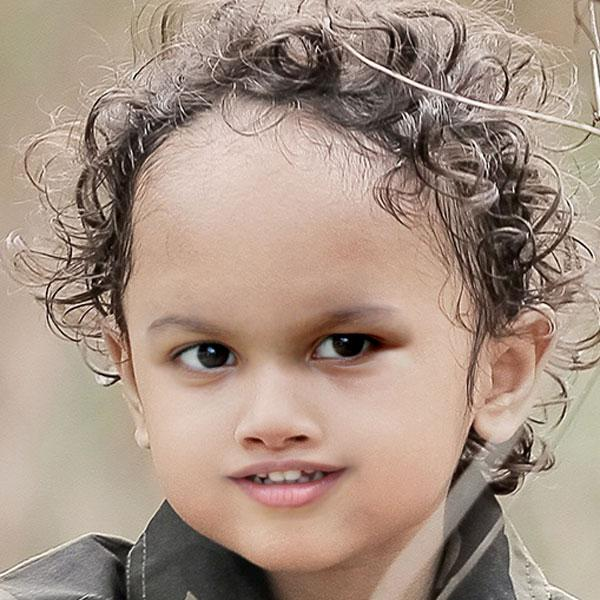Eyes: (298, 314, 399, 378), (154, 327, 246, 384)
